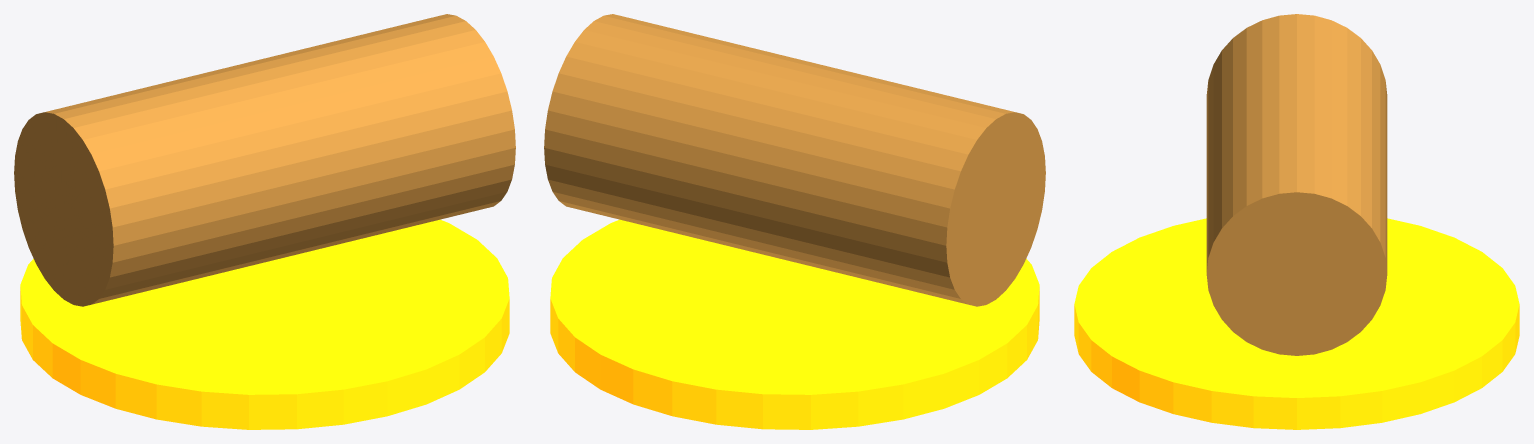
Rendered from fitness_foam_roller.glb.
3 renders of one model, left to right at view 1: azimuth 30°, elevation 25°; view 2: azimuth 150°, elevation 25°; view 3: azimuth 270°, elevation 25°, orthographic. The views are drawn at different scales.
Visible parts, largest first — view 1: 02_14_Popular_Fitness_Foam_Roller_part_01, 02_14_Popular_Fitness_Foam_Roller_ROOT_base; view 2: 02_14_Popular_Fitness_Foam_Roller_part_01, 02_14_Popular_Fitness_Foam_Roller_ROOT_base; view 3: 02_14_Popular_Fitness_Foam_Roller_ROOT_base, 02_14_Popular_Fitness_Foam_Roller_part_01.
Part boxes in pixels (x1,y1,x2,y2): 02_14_Popular_Fitness_Foam_Roller_part_01: (14,14,515,306); 02_14_Popular_Fitness_Foam_Roller_ROOT_base: (20,219,509,429); 02_14_Popular_Fitness_Foam_Roller_part_01: (544,14,1045,306); 02_14_Popular_Fitness_Foam_Roller_ROOT_base: (550,219,1039,429); 02_14_Popular_Fitness_Foam_Roller_ROOT_base: (1074,218,1519,429); 02_14_Popular_Fitness_Foam_Roller_part_01: (1206,14,1387,355).
Bounding box in the file's own units: 0.76 × 0.4386 × 0.76.
